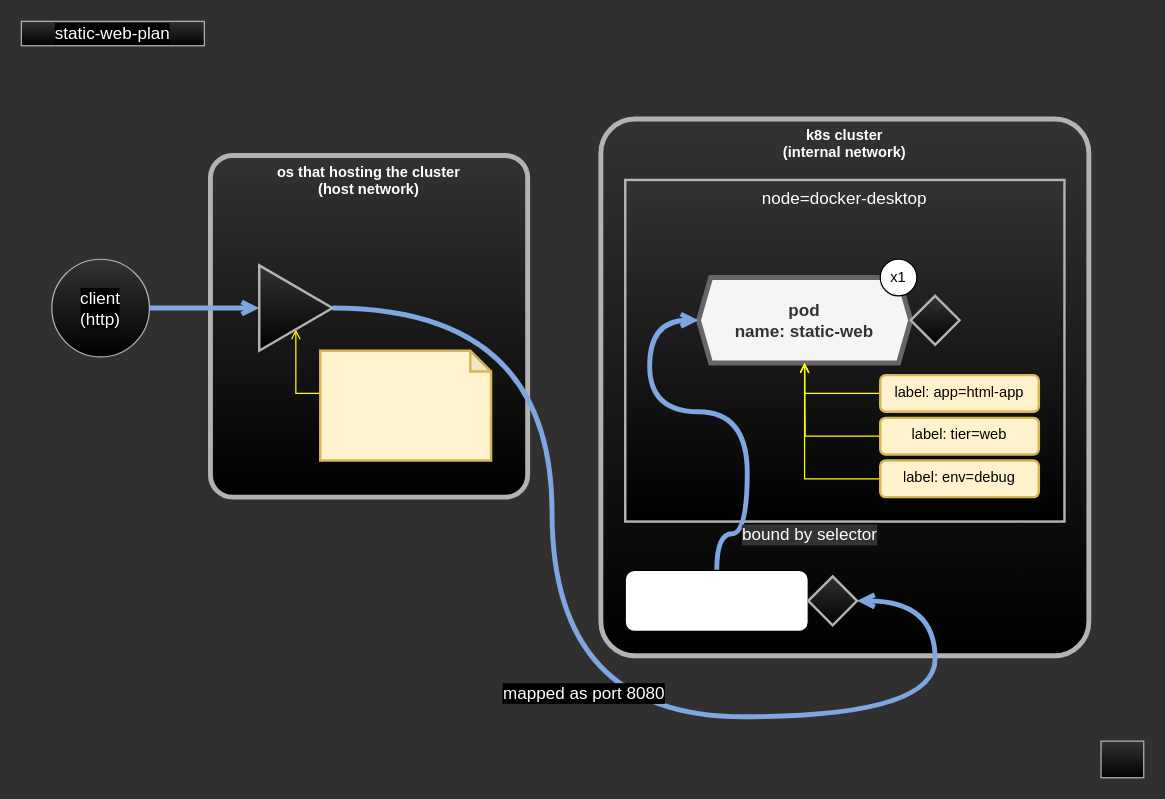
Image size: 1165x799. Some labels were removed from this diagram. The centre of each missing label's shape, as x and y in pixels:
"k8s service name: html-service" goes at point 716,600.
"kubectl port-forward (debug use only)" goes at point 405,405.
"port-forward" goes at point 295,307.
"serving port 80" goes at point 832,600.
"serving port 8080" goes at point 934,319.
